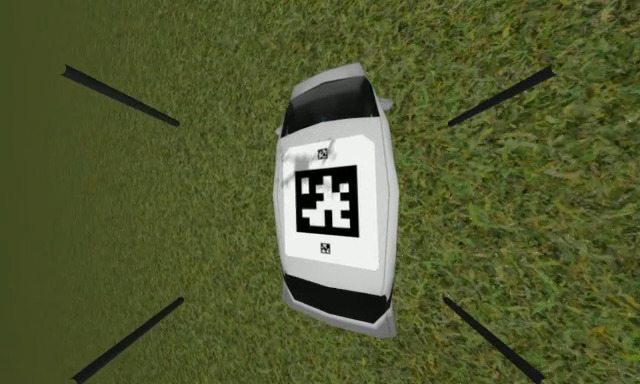Car: (274, 64, 401, 343)
Landing Pad: (282, 136, 380, 272)
